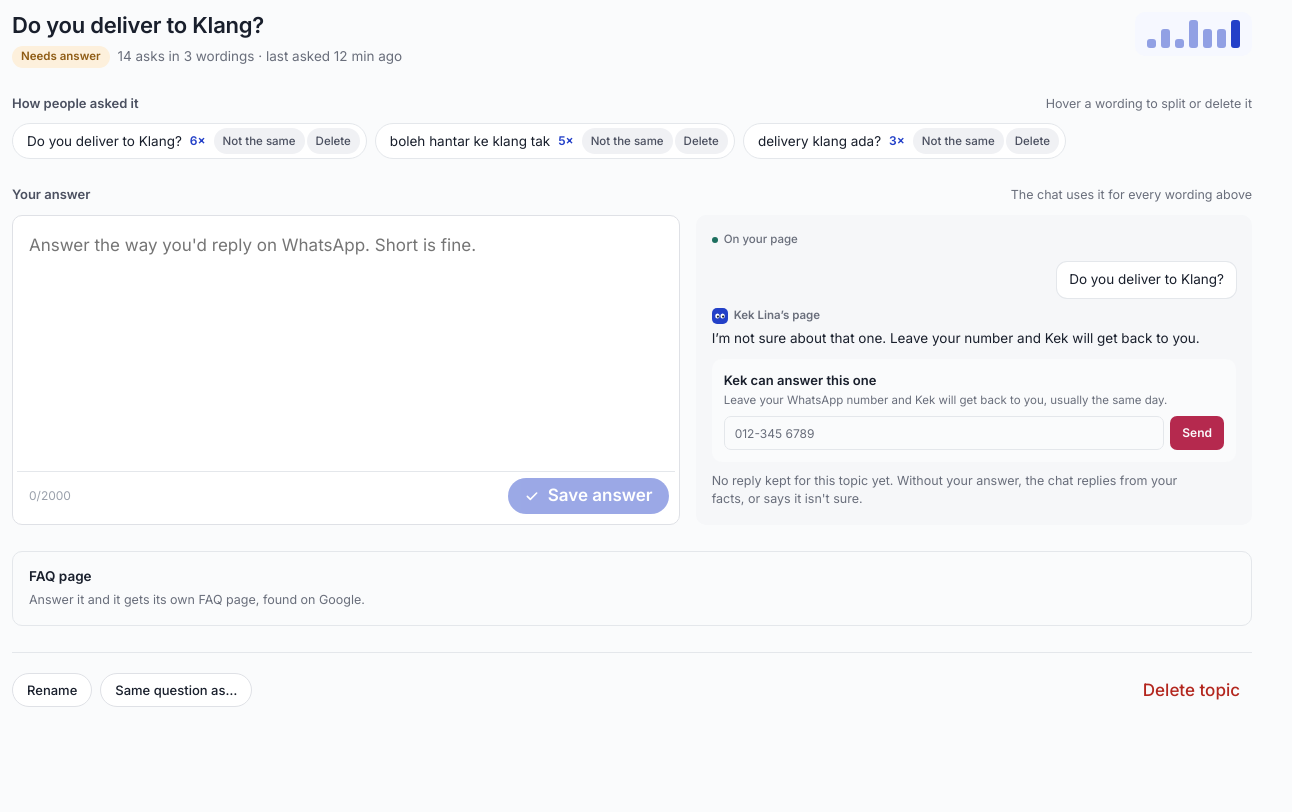
Test: TopicDetail, the answer › shows the saved answer at once, before the refresh brings it back
In the text box named "Your answer": x=346, y=345 x1=17 y1=220 x2=675 y2=471, type "Yes, RM15."
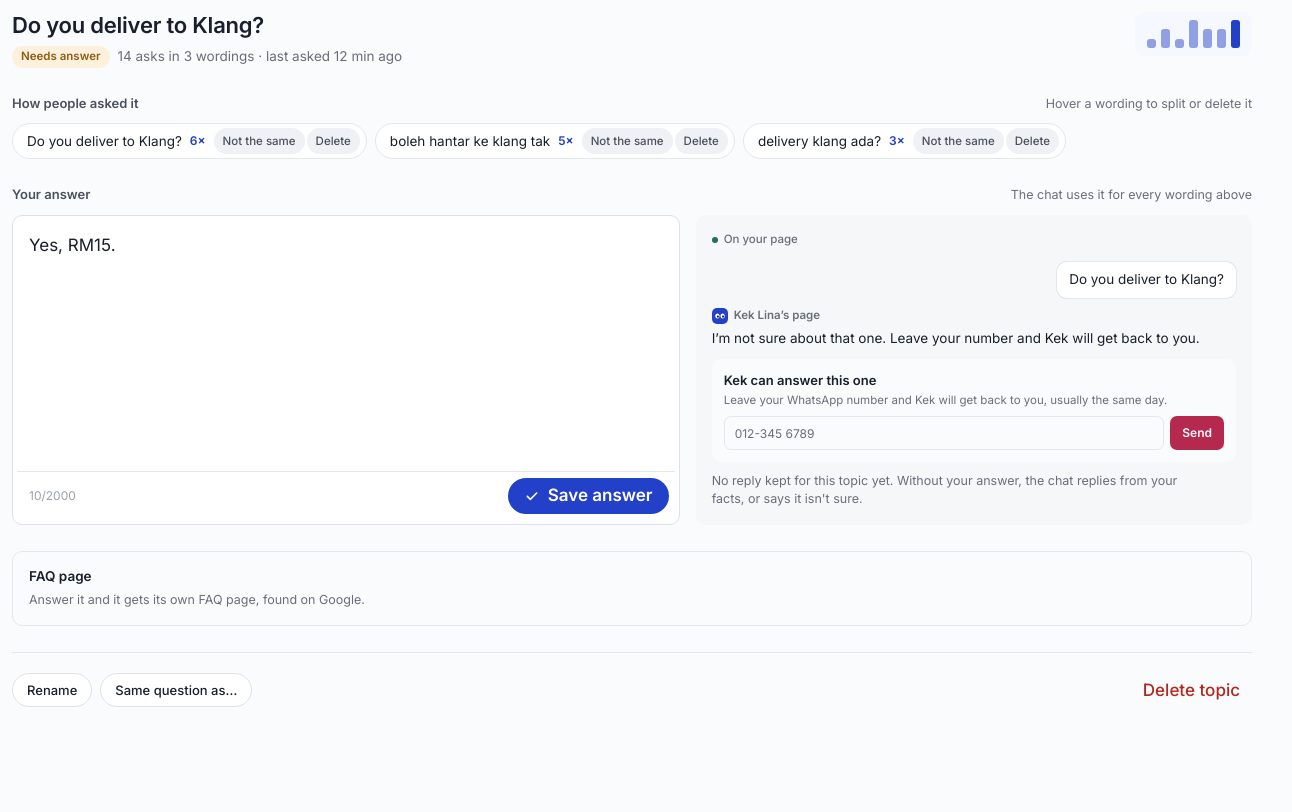
Click the button "Save answer": x=588, y=496 x1=508 y1=478 x2=669 y2=514
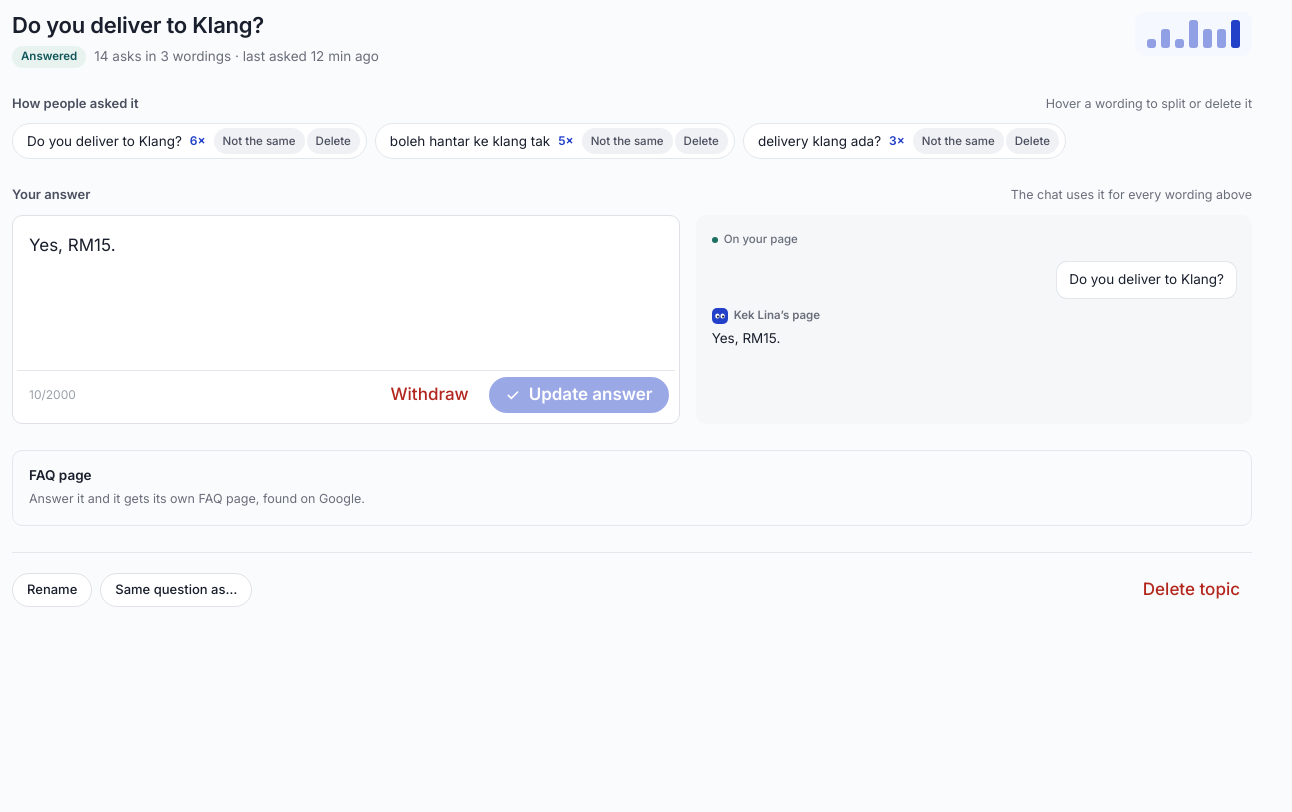
Now the text "Answered" is shown, box x1=12 y1=46 x2=86 y2=68
Now the text "Yes, RM15." is shown, box x1=712 y1=330 x2=780 y2=346
Now the button "Update answer" is disabled, box x1=489 y1=377 x2=669 y2=413
